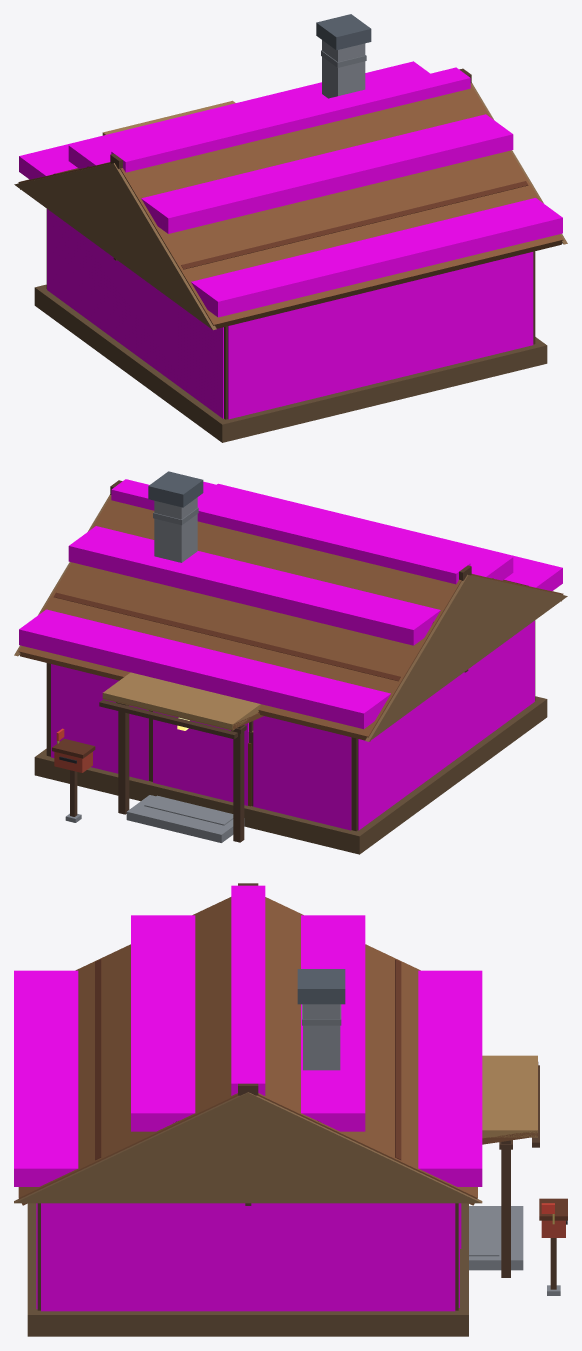
The model's file is house_t1.glb.
3 views of the same model, one above another, from view 1: azimuth 30°, elevation 25°; view 2: azimuth 150°, elevation 25°; view 3: azimuth 270°, elevation 25° (orthographic). The views are drawn at different scales.
Parts seen in each view (by area): view 1: M_b7, Col_wall_B, Col_roof_+1_0, Col_roof_+1_1, Col_wall_L, M_b0, M_b3, Col_roof_ridge, Col_roof_-1_0, M_b11, M_b9, Col_roof_-1_1 (+2 smaller); view 2: M_b7, Col_roof_-1_1, Col_roof_-1_0, Col_wall_L, M_b0, M_b3, Col_wall_FL, Col_roof_ridge, Col_wall_FR, M_b2, Col_roof_+1_0, Col_door (+7 smaller); view 3: Col_wall_R, M_b7, M_b3, Col_roof_-1_1, Col_roof_+1_1, Col_roof_+1_0, M_b0, Col_roof_-1_0, Col_roof_ridge, M_b9, M_b1, M_b2 (+2 smaller).
Boxes of the visible parts, left/top/right/bottom form: M_b7: left=18, top=84, right=563, bottom=329; Col_wall_B: left=228, top=252, right=533, bottom=419; Col_roof_+1_0: left=141, top=114, right=513, bottom=233; Col_roof_+1_1: left=191, top=198, right=562, bottom=317; Col_wall_L: left=47, top=209, right=223, bottom=418; M_b0: left=34, top=284, right=547, bottom=442; M_b3: left=14, top=82, right=567, bottom=330; Col_roof_ridge: left=111, top=67, right=470, bottom=172; Col_roof_-1_0: left=68, top=61, right=429, bottom=168; M_b11: left=53, top=166, right=528, bottom=269; M_b9: left=322, top=40, right=365, bottom=98; Col_roof_-1_1: left=19, top=82, right=321, bottom=179; M_b7: left=18, top=496, right=563, bottom=741; Col_roof_-1_1: left=19, top=609, right=390, bottom=729; Col_roof_-1_0: left=68, top=526, right=440, bottom=645; Col_wall_L: left=358, top=620, right=534, bottom=830; M_b0: left=34, top=696, right=547, bottom=854; M_b3: left=14, top=494, right=567, bottom=741; Col_wall_FL: left=253, top=716, right=351, bottom=830; Col_roof_ridge: left=111, top=479, right=470, bottom=584; Col_wall_FR: left=51, top=664, right=148, bottom=780; M_b2: left=46, top=480, right=535, bottom=842; Col_roof_+1_0: left=198, top=481, right=513, bottom=580; Col_door: left=153, top=711, right=248, bottom=805; Col_wall_R: left=41, top=1203, right=455, bottom=1311; M_b7: left=18, top=897, right=538, bottom=1205; M_b3: left=14, top=1092, right=482, bottom=1203; Col_roof_-1_1: left=418, top=970, right=482, bottom=1186; Col_roof_+1_1: left=14, top=970, right=78, bottom=1186; Col_roof_+1_0: left=131, top=915, right=195, bottom=1131; M_b0: left=27, top=1203, right=468, bottom=1336; Col_roof_-1_0: left=301, top=915, right=365, bottom=1131; Col_roof_ridge: left=231, top=885, right=265, bottom=1095; M_b9: left=303, top=1004, right=523, bottom=1270; M_b1: left=482, top=1055, right=537, bottom=1137; M_b2: left=37, top=883, right=539, bottom=1310.
Bounding box in the file's own units: 7.1 × 5.09 × 8.16.
